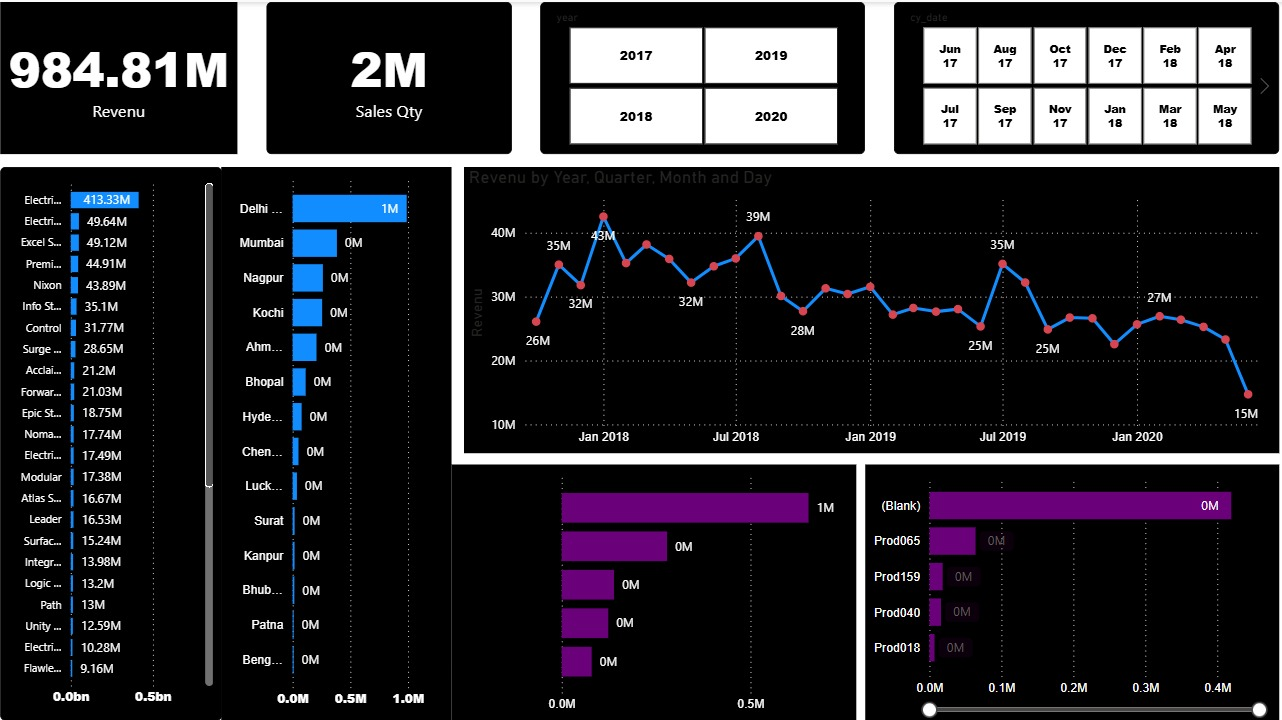

The page's visual inventory and layout, read from the dashboard file:
{"tool":"powerbi","page":{"name":"Page 1","canvas":[1280,720],"ordinal":0},"visuals":[{"type":"card","fields":{"Values":["BaseMeasure.Revenu"]},"box":[15.9,0,232.3,149.2],"z":0},{"type":"barChart","fields":{"Y":["BaseMeasure.Revenu"],"Category":["tushar customers.custmer_name"]},"box":[15.9,161.4,216.4,541.7],"z":1000},{"type":"card","fields":{"Values":["BaseMeasure.Sales Qty"]},"box":[276.4,0,239.7,149.2],"z":2000},{"type":"barChart","title":"Sales Qty by Market","fields":{"Y":["BaseMeasure.Sales Qty"],"Category":["tushar markets.markets_name"]},"box":[232.3,161.4,225,541.7],"z":3000},{"type":"slicer","fields":{"Values":["tushar date.year"]},"box":[544.2,0,317.9,149.2],"z":4000},{"type":"slicer","fields":{"Values":["tushar date.cy_date"]},"box":[890.2,0,376.6,149.2],"z":6000},{"type":"barChart","title":"Top 5 customer","fields":{"Y":["BaseMeasure.Sales Qty"],"Category":["tushar customers.custmer_name"]},"box":[457.3,452.4,396.2,250.7],"z":7000},{"type":"barChart","title":"Top 5 Product","fields":{"Category":["tushar products.product_code"],"Y":["BaseMeasure.Sales Qty"]},"box":[862.1,452.4,404.8,250.7],"z":8000},{"type":"lineChart","fields":{"Category":["tushar date.cy_date.Variation.Date Hierarchy.Year","tushar date.cy_date.Variation.Date Hierarchy.Quarter","tushar date.cy_date.Variation.Date Hierarchy.Month","tushar date.cy_date.Variation.Date Hierarchy.Day"],"Y":["BaseMeasure.Revenu"]},"box":[469.6,161.4,797.3,280],"z":9000}]}

Visuals, with their boxes in screenshot pixels (x1, y1, x2, y2), scaled from the page's 1280x720 canvas onto the 1282x720 screenshot:
card - BaseMeasure.Revenu: box=[16, 0, 249, 149]
barChart - BaseMeasure.Revenu x tushar customers.custmer_name: box=[16, 161, 233, 703]
card - BaseMeasure.Sales Qty: box=[277, 0, 517, 149]
"Sales Qty by Market" barChart: box=[233, 161, 458, 703]
slicer - tushar date.year: box=[545, 0, 863, 149]
slicer - tushar date.cy_date: box=[892, 0, 1269, 149]
"Top 5 customer" barChart: box=[458, 452, 855, 703]
"Top 5 Product" barChart: box=[863, 452, 1269, 703]
lineChart - tushar date.cy_date.Variation.Date Hierarchy.Year x tushar date.cy_date.Variation.Date Hierarchy.Quarter: box=[470, 161, 1269, 441]
